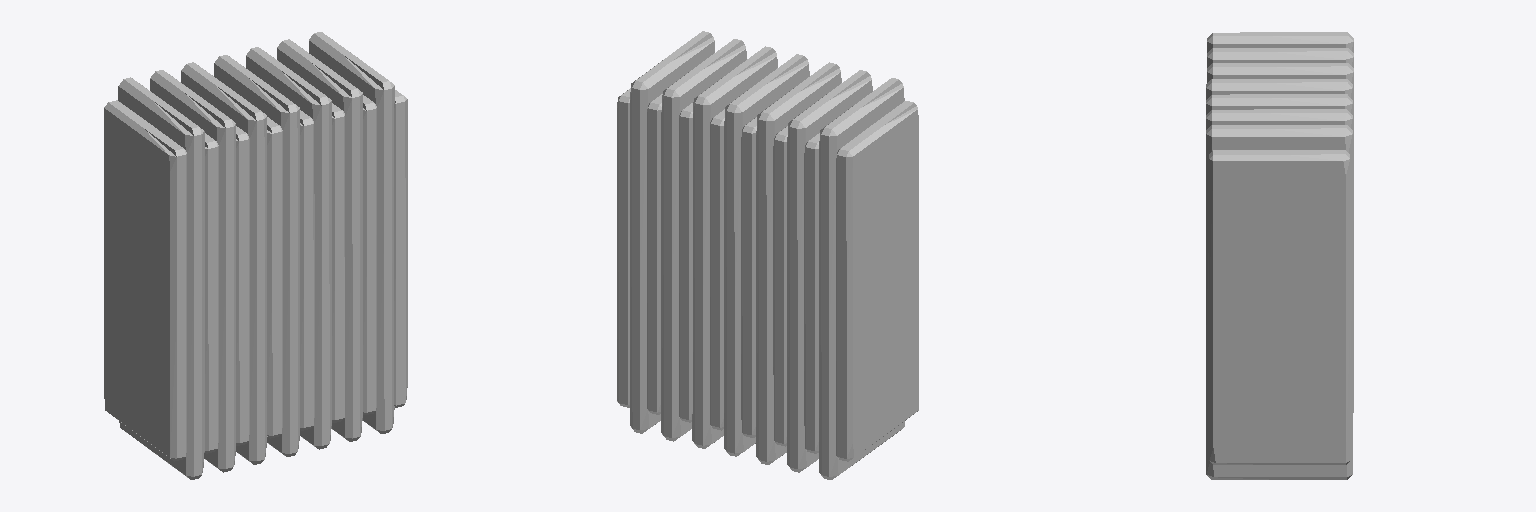
Rendered from fole.obj.
The picture shows the model from 3 angles: view 1: azimuth 30°, elevation 25°; view 2: azimuth 150°, elevation 25°; view 3: azimuth 270°, elevation 25°; orthographic projection.
Visible parts, largest first — view 1: Cube.007, Cube.003, Cube.018, Cube.024, Cube.028, Cube.005, Cube.038, Cube.013, Cube.029, Cube.027, Cube.037, Cube.009 (+3 smaller); view 2: Cube.007, Cube.003, Cube.018, Cube.028, Cube.005, Cube.013, Cube.024, Cube.038, Cube.029, Cube.009, Cube.027, Cube.037 (+3 smaller); view 3: Cube.039, Cube.038, Cube.013, Cube.003, Cube.018, Cube.028, Cube.024, Cube.005.
Part boxes in pixels (x1,y1,x2,y2): Cube.007: (104,100,186,461); Cube.003: (118,77,204,479); Cube.018: (277,39,362,441); Cube.024: (246,47,331,449); Cube.028: (214,55,299,456); Cube.005: (150,70,235,472); Cube.038: (309,32,394,433); Cube.013: (181,62,266,464); Cube.029: (267,117,282,438); Cube.027: (300,110,314,430); Cube.037: (363,95,376,414); Cube.009: (205,133,218,453); Cube.007: (836,101,918,461); Cube.003: (819,78,904,479); Cube.018: (661,39,746,441); Cube.028: (724,54,809,456); Cube.005: (787,70,872,472); Cube.013: (756,62,841,464); Cube.024: (692,46,777,448); Cube.038: (630,31,714,433); Cube.029: (741,117,756,437); Cube.009: (804,133,819,453); Cube.027: (710,109,724,430); Cube.037: (647,94,662,414); Cube.039: (1209,150,1349,464); Cube.038: (1206,125,1352,479); Cube.013: (1207,63,1353,412); Cube.003: (1207,32,1353,52); Cube.018: (1206,109,1352,129); Cube.028: (1206,79,1352,99); Cube.024: (1206,94,1352,114); Cube.005: (1207,48,1353,67).
Bounding box in the file's own units: 1.11 × 1.57 × 0.5959.